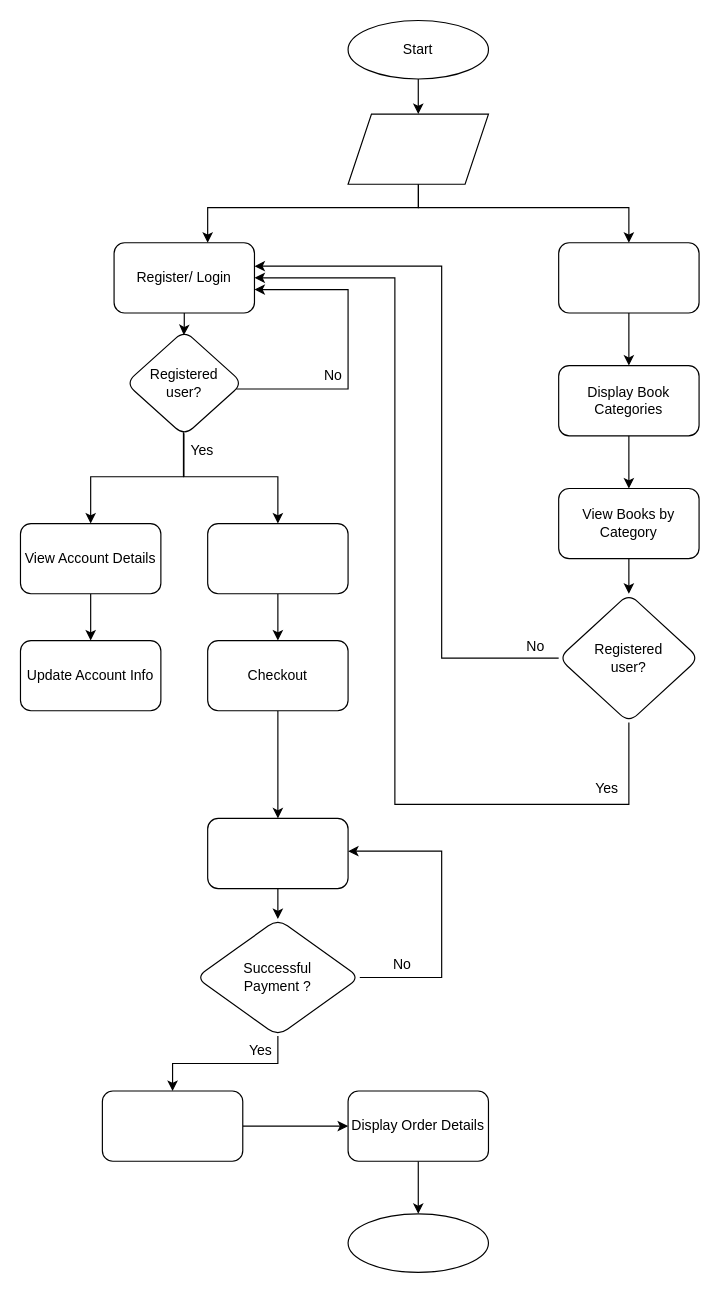
This 720x1293 diagram has some shape labels left out. Each missing label, with the box of its shape:
Browse books: (558, 242, 699, 313)
End: (347, 1213, 488, 1272)
Enter Payment Details: (207, 817, 348, 889)
Payment and Order Confirmation: (101, 1090, 243, 1161)
User Actions: (347, 113, 488, 184)
View/Update Cart: (207, 522, 348, 594)
